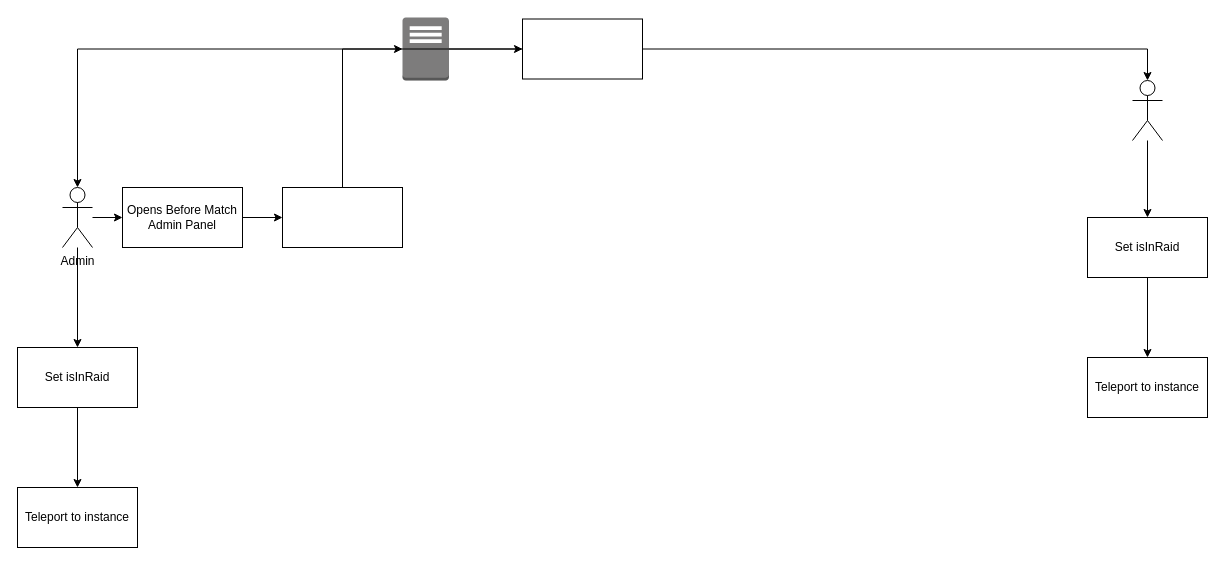
Some shapes in this 1225 by 565 pixel diagram are drawn without their labels. The shapes that lost their labels are listed below. From the top down, each one's centre as x and y in pixels, then its label:
At point 582,48: "Init Match".
At point 1147,110: "Player 1".
At point 342,217: "Start Match".
